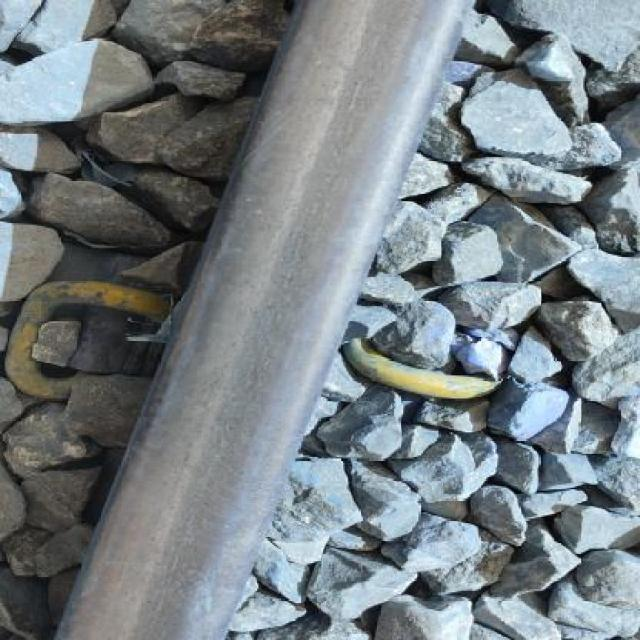non-defective: (30, 0, 491, 640)
